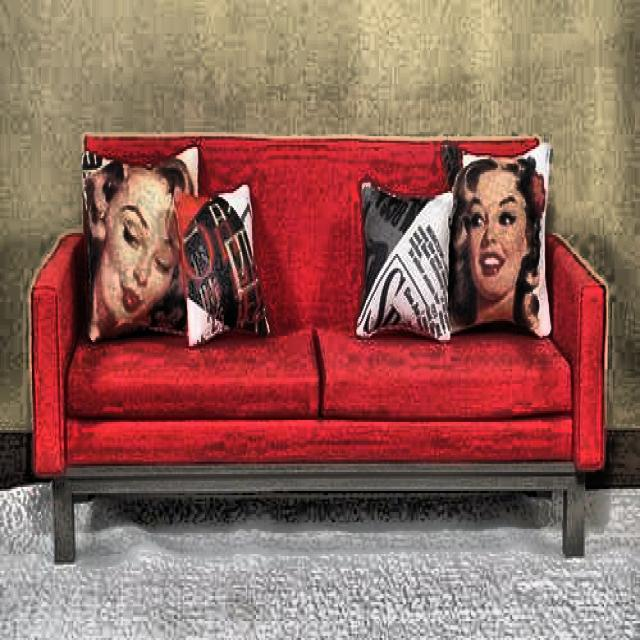sofa: (29, 134, 609, 564)
